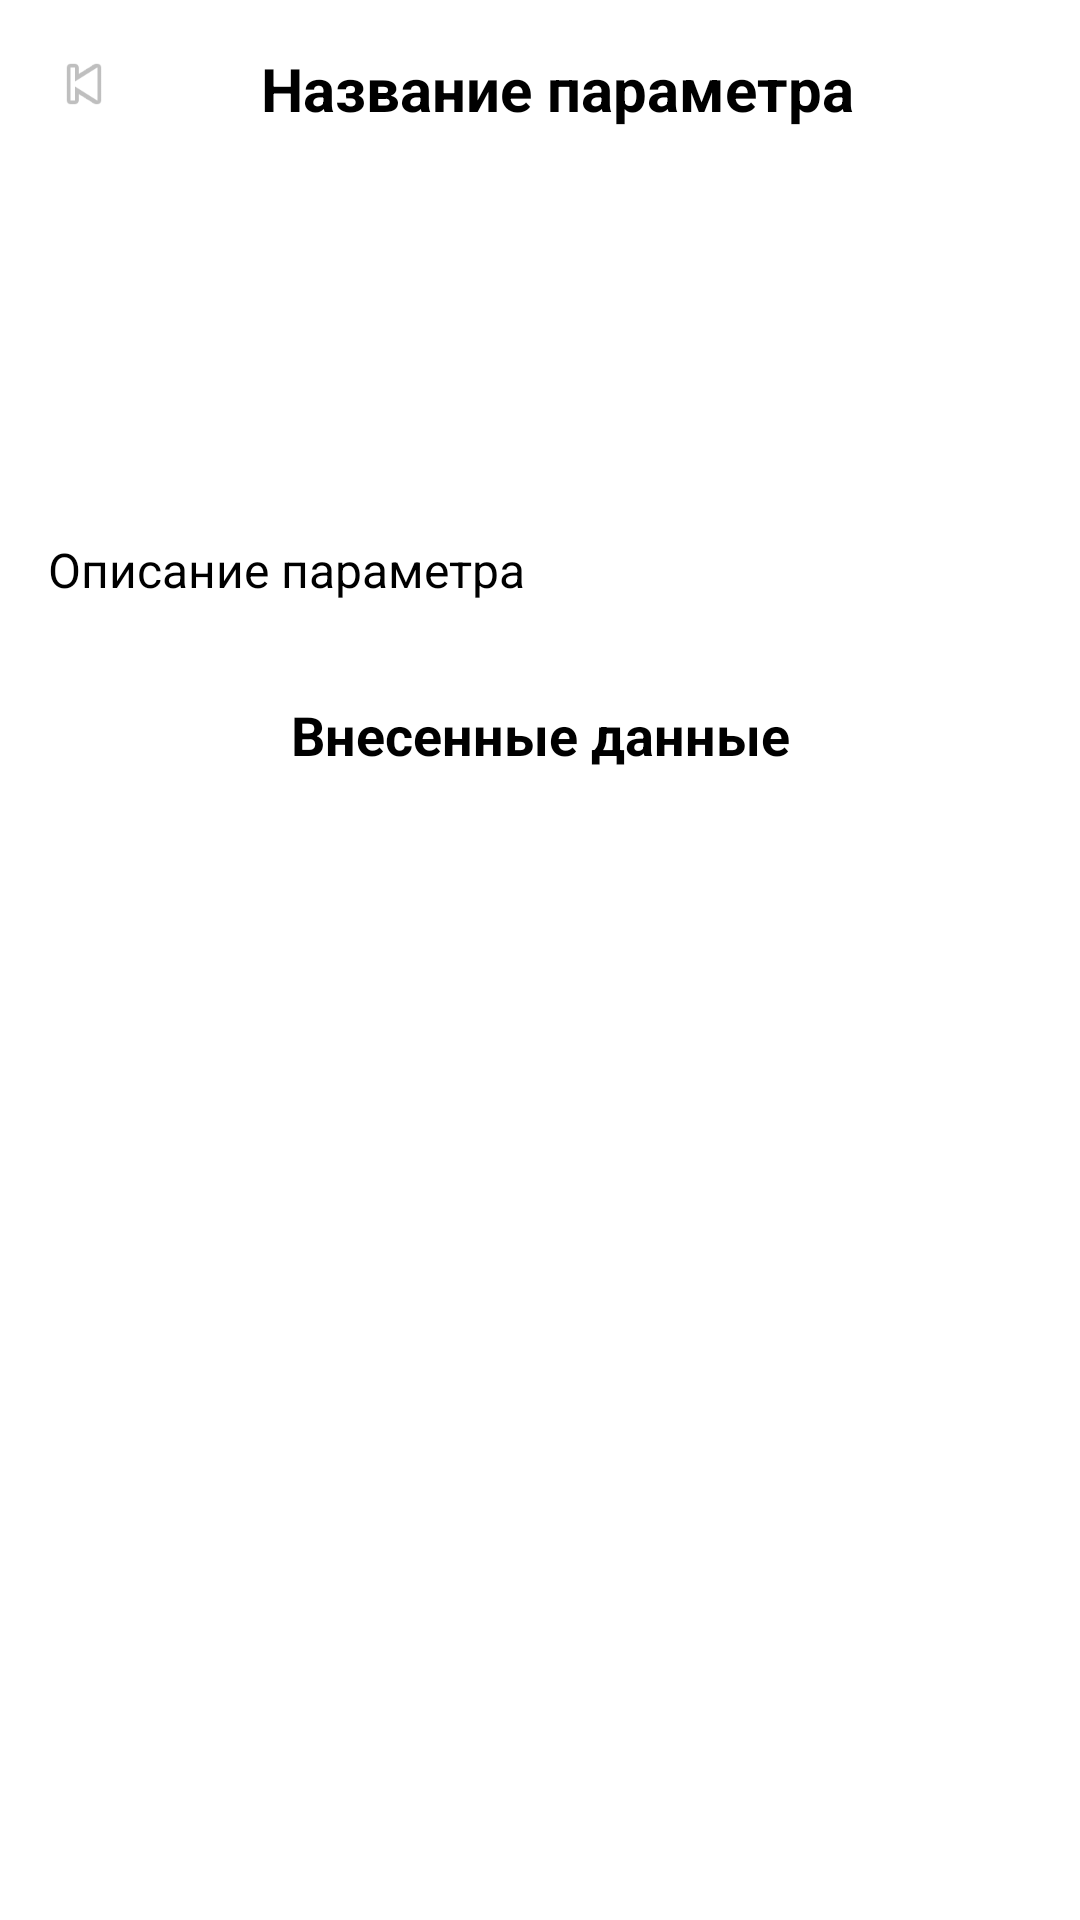

Locate icon controls on the screen. Image size 1080*1920, boxes as (x1, y1, x2, y2).
previous: (67, 64, 101, 104)
